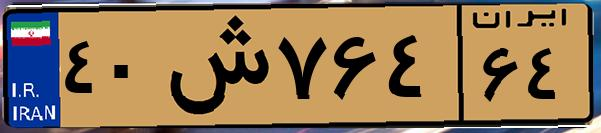0: (110, 28, 158, 98)
4: (385, 28, 445, 110), (57, 26, 110, 100), (525, 38, 570, 115)
6: (330, 28, 385, 110), (475, 38, 525, 113)
7: (270, 28, 330, 110)
ش: (158, 12, 270, 120)
